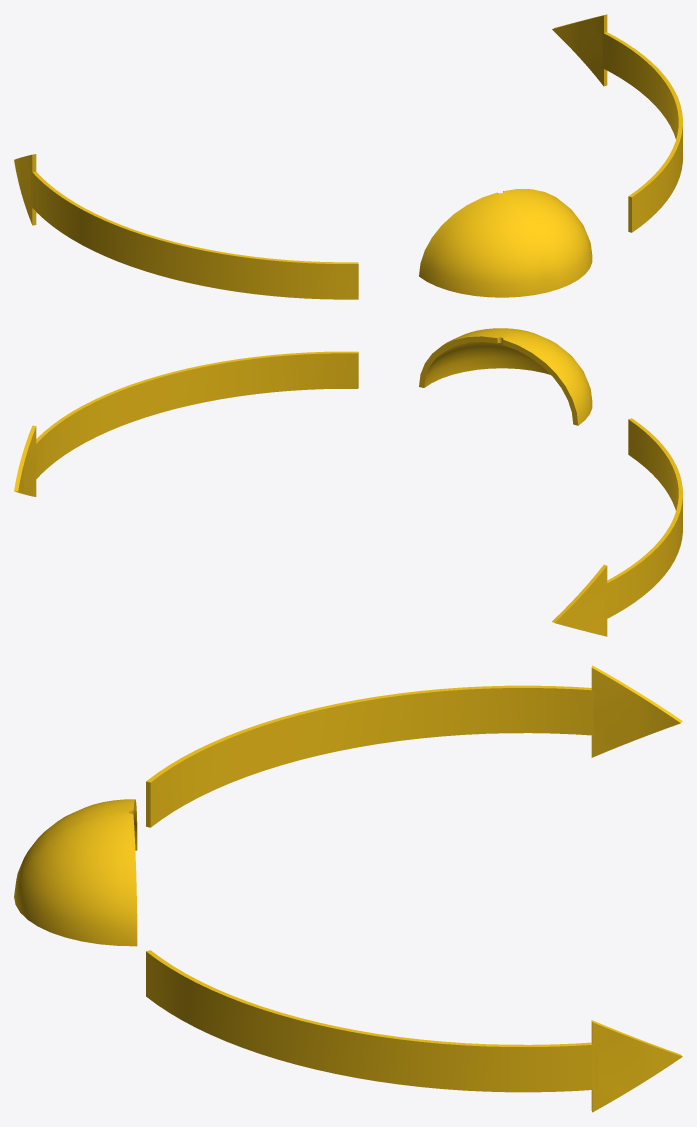
Rendered from EM_TrimYellow.fbx.
The picture shows the model from 3 angles, top to bottom: view 1: azimuth 30°, elevation 25°; view 2: azimuth 150°, elevation 25°; view 3: azimuth 270°, elevation 25°; orthographic projection. The views are drawn at different scales.
Parts seen in each view (by area): view 1: EM_TrimYellow; view 2: EM_TrimYellow; view 3: EM_TrimYellow.
Boxes of the visible parts, x1=… form: EM_TrimYellow: x1=14, y1=14, x2=682, y2=299; EM_TrimYellow: x1=14, y1=328, x2=682, y2=636; EM_TrimYellow: x1=14, y1=665, x2=682, y2=1112.
Bounding box in the file's own units: 7.89 × 1.24 × 6.17.
